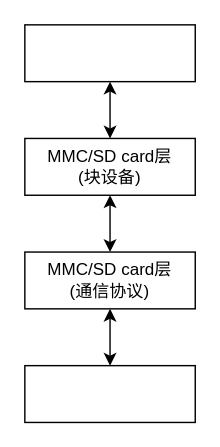
Some shapes in this 220 by 447 pixel diagram are drawn without their labels. Each missing label, with the centre of its shape:
MMC/SD host层: (109,393)
文件系统: (109,52)
